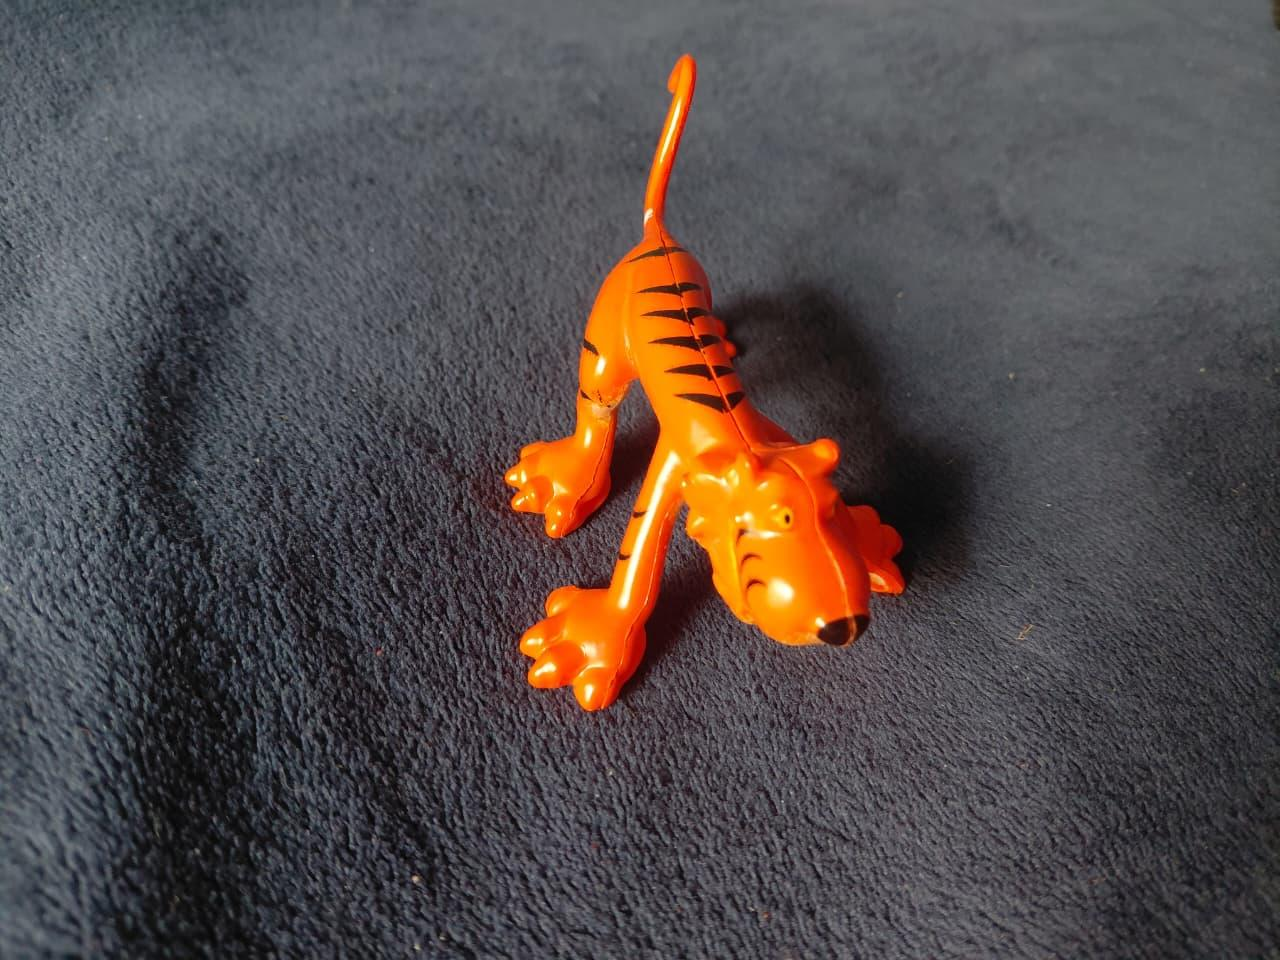tiger: (488, 40, 918, 719)
